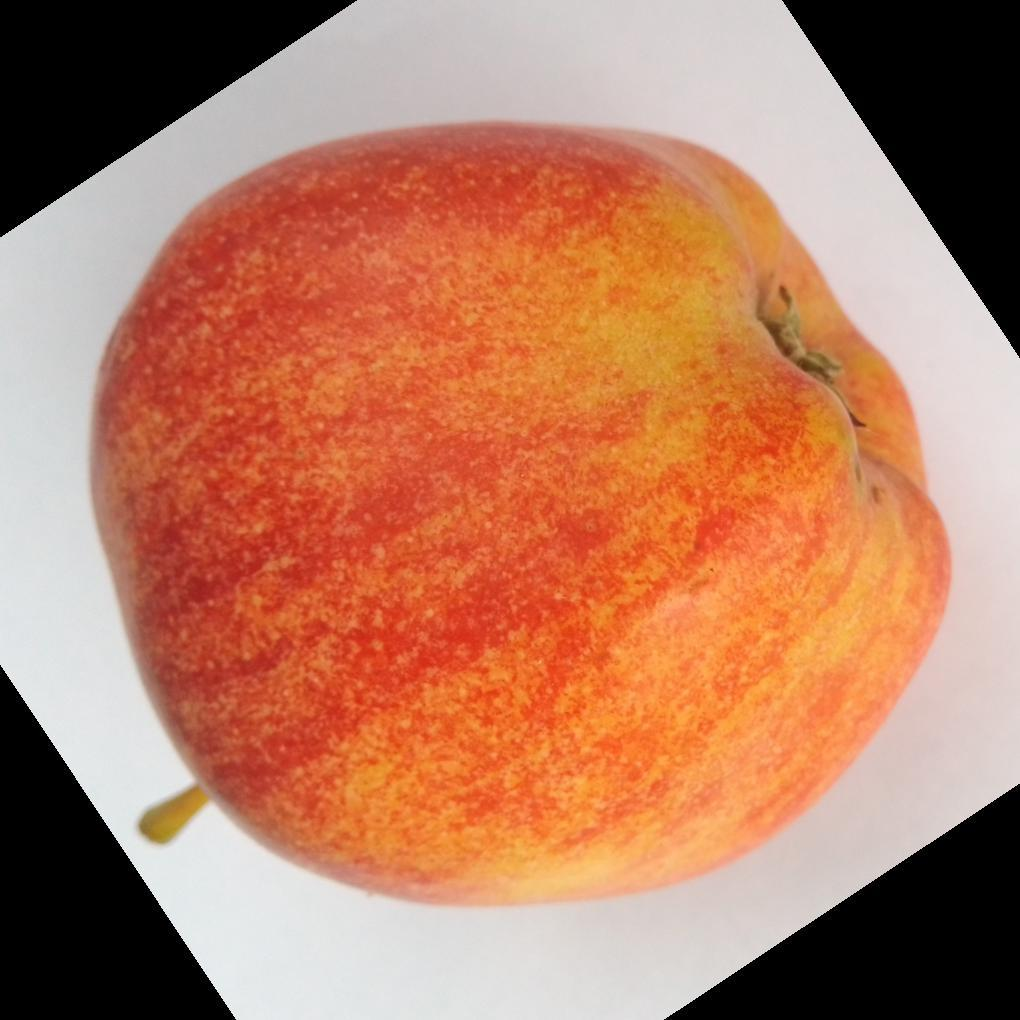FreshGuava: (86, 122, 954, 913)
